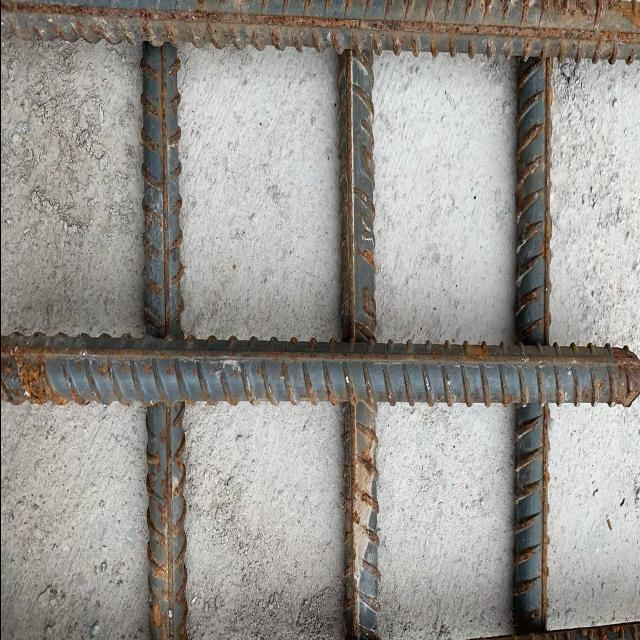ribbed bar: (1, 328, 640, 411), (0, 2, 640, 68), (140, 44, 186, 640), (336, 51, 381, 640), (513, 61, 551, 631)
